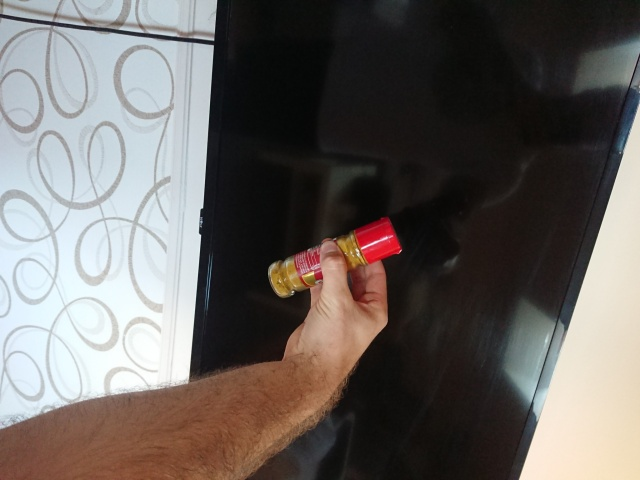Kotanyi Curry Spices Mix 70g: (265, 213, 405, 301)
